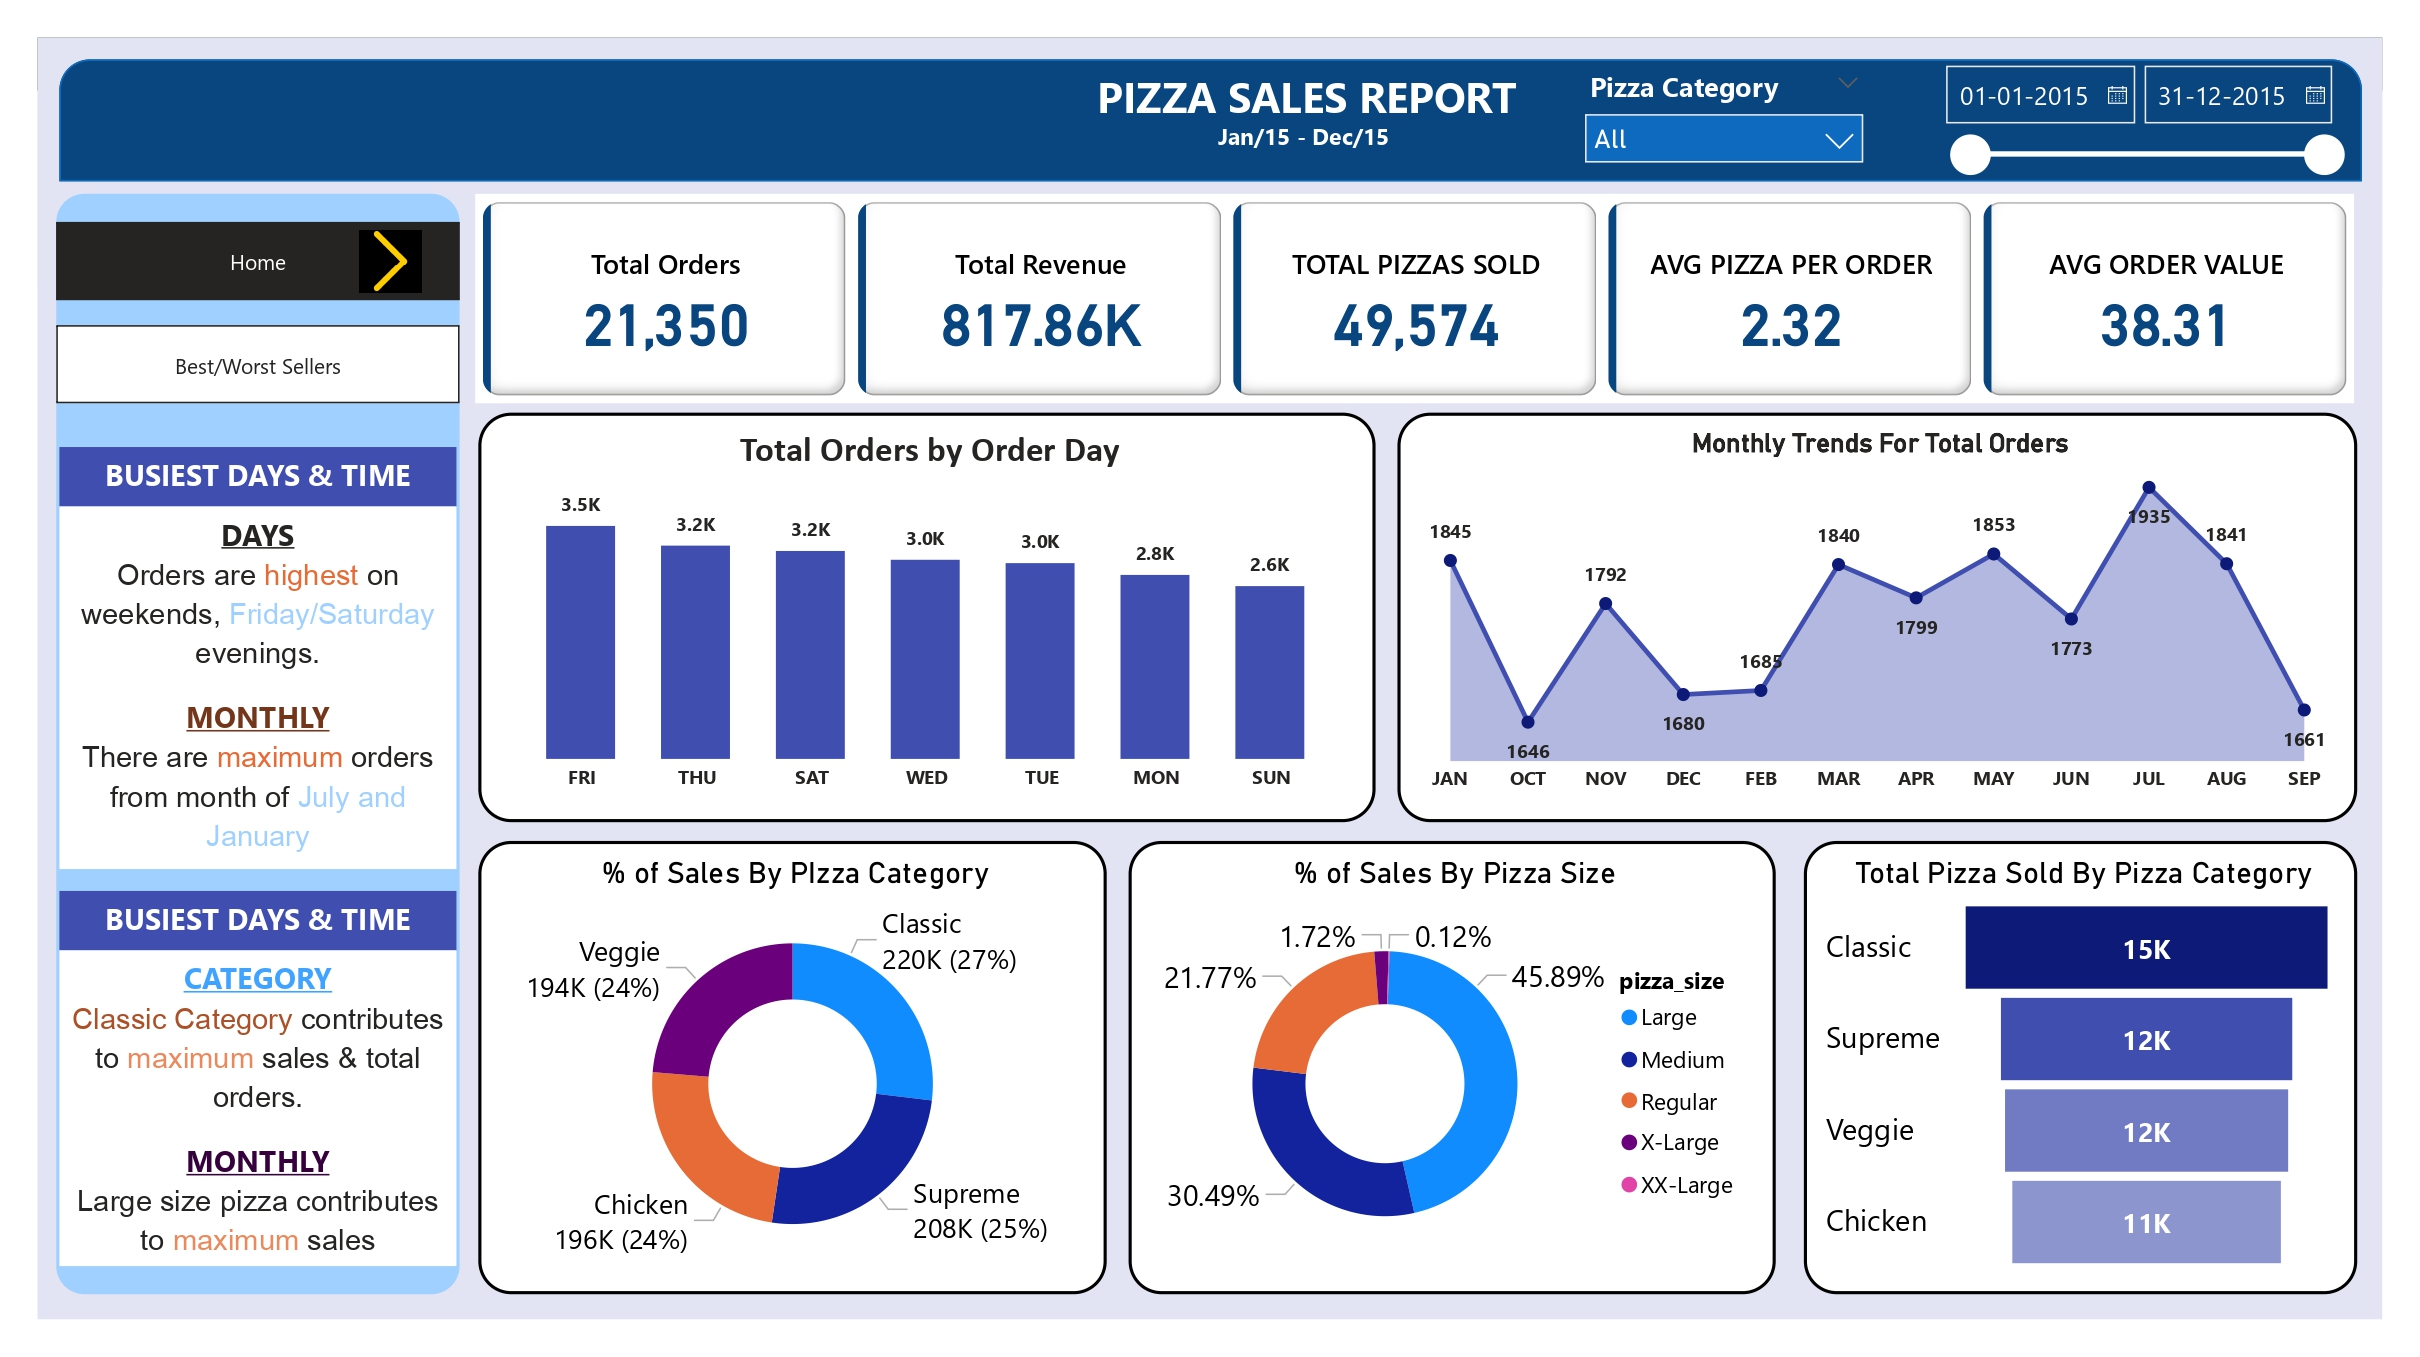

This screenshot's page, from the dashboard's own definition file:
{"tool":"powerbi","page":{"name":"Home","canvas":[1500,820],"ordinal":0},"visuals":[{"type":"cardVisual","fields":{"Data":["pizza_sales.Total Orders","pizza_sales.Total Revenue","pizza_sales.TOTAL PIZZAS SOLD","pizza_sales.AVG PIZZA PER ORDER","pizza_sales.AVG ORDER VALUE"]},"box":[280,100,1202,134],"z":0},{"type":"shape","box":[14,14,1473,78],"z":1000},{"type":"textbox","box":[634,14,356,46],"z":2000},{"type":"textbox","box":[750,48,130,36],"z":3000},{"type":"columnChart","title":"Total Orders by Order Day","fields":{"Y":["pizza_sales.Total Orders"],"Category":["pizza_sales.Day No"]},"box":[282,240,574,262],"z":4000},{"type":"areaChart","title":"Monthly Trends For Total Orders","fields":{"Category":["pizza_sales.Order Month"],"Y":["pizza_sales.Total Orders"]},"box":[870,240,614,262],"z":5000},{"type":"donutChart","title":"% of Sales By PIzza Category","fields":{"Category":["pizza_sales.pizza_category"],"Y":["pizza_sales.Total Revenue"]},"box":[282,514,402,290],"z":6000},{"type":"donutChart","title":"% of Sales By Pizza Size","fields":{"Y":["pizza_sales.Total Revenue"],"Category":["pizza_sales.pizza_size"]},"box":[698,514,414,290],"z":7000},{"type":"funnel","title":"Total Pizza Sold By Pizza Category","fields":{"Category":["pizza_sales.pizza_category"],"Y":["pizza_sales.TOTAL PIZZAS SOLD"]},"box":[1130,514,354,290],"z":8000},{"type":"shape","box":[12,100,258,704],"z":9000},{"type":"textbox","box":[14,262,254,38],"z":10000},{"type":"textbox","box":[14,300,254,232],"z":11000},{"type":"textbox","box":[14,546,254,38],"z":12000},{"type":"textbox","box":[14,584,254,202],"z":13000},{"type":"slicer","fields":{"Values":["pizza_sales.pizza_category"]},"box":[980,14,198,70],"z":14000},{"type":"slicer","fields":{"Values":["pizza_sales.order_date"]},"box":[1208,8,276,84],"z":15000},{"type":"pageNavigator","box":[12,118,258,50],"z":15001},{"type":"pageNavigator","box":[12,184,258,50],"z":15002},{"type":"image","box":[198,118,56,50],"z":15003}]}

Visuals, with their boxes in screenshot pixels (x1, y1, x2, y2):
cardVisual - pizza_sales.Total Orders x pizza_sales.Total Revenue: box=[475, 194, 2354, 403]
shape: box=[59, 59, 2362, 181]
textbox: box=[1029, 59, 1585, 131]
textbox: box=[1210, 113, 1413, 169]
"Total Orders by Order Day" columnChart: box=[478, 413, 1376, 822]
"Monthly Trends For Total Orders" areaChart: box=[1398, 413, 2357, 822]
"% of Sales By PIzza Category" donutChart: box=[478, 841, 1107, 1294]
"% of Sales By Pizza Size" donutChart: box=[1129, 841, 1776, 1294]
"Total Pizza Sold By Pizza Category" funnel: box=[1804, 841, 2357, 1294]
shape: box=[56, 194, 460, 1294]
textbox: box=[59, 447, 456, 507]
textbox: box=[59, 507, 456, 869]
textbox: box=[59, 891, 456, 951]
textbox: box=[59, 951, 456, 1266]
slicer - pizza_sales.pizza_category: box=[1570, 59, 1879, 169]
slicer - pizza_sales.order_date: box=[1926, 50, 2357, 181]
pageNavigator: box=[56, 222, 460, 300]
pageNavigator: box=[56, 325, 460, 403]
image: box=[347, 222, 435, 300]
